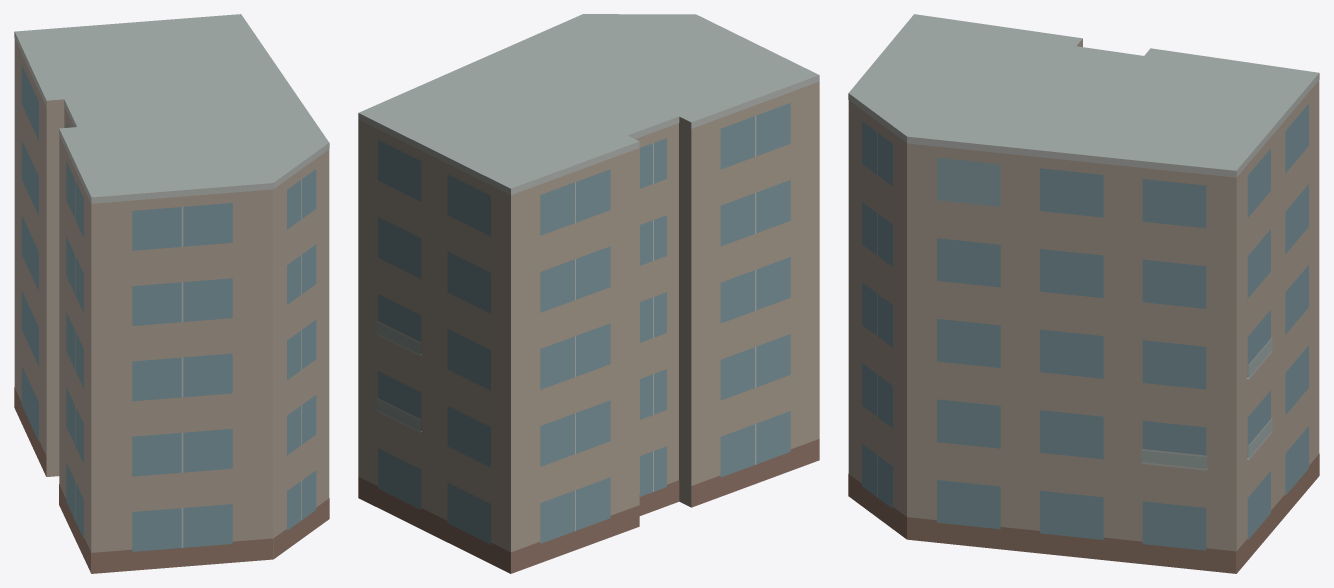
Rendered from survey-upis-32943183.glb.
3 renders of one model, left to right at view 1: azimuth 30°, elevation 25°; view 2: azimuth 150°, elevation 25°; view 3: azimuth 270°, elevation 25°, orthographic. The views are drawn at different scales.
Parts seen in each view (by area): view 1: survey-upis-32943183.tmp; view 2: survey-upis-32943183.tmp; view 3: survey-upis-32943183.tmp.
Boxes of the visible parts, <box> form: survey-upis-32943183.tmp: <box>14,14,329,573</box>; survey-upis-32943183.tmp: <box>358,14,819,573</box>; survey-upis-32943183.tmp: <box>848,14,1319,573</box>.
Bounding box in the file's own units: 12.11 × 14.5 × 15.37.
